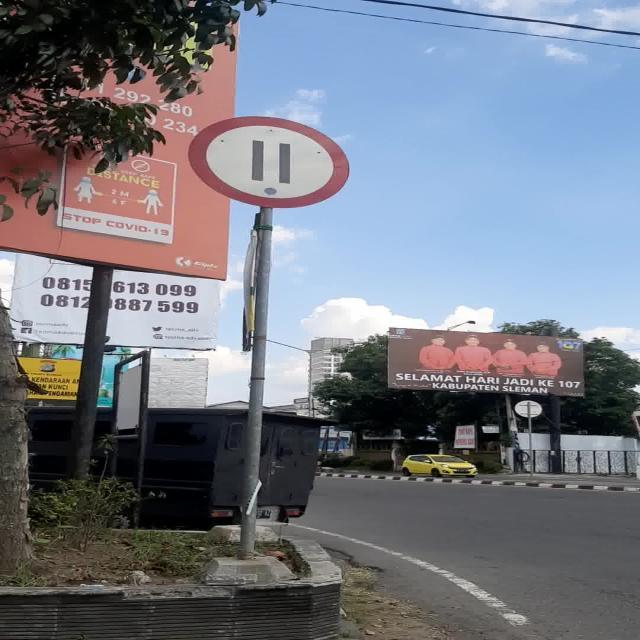Larangan Muatan - 10 ton: (188, 116, 350, 208)
